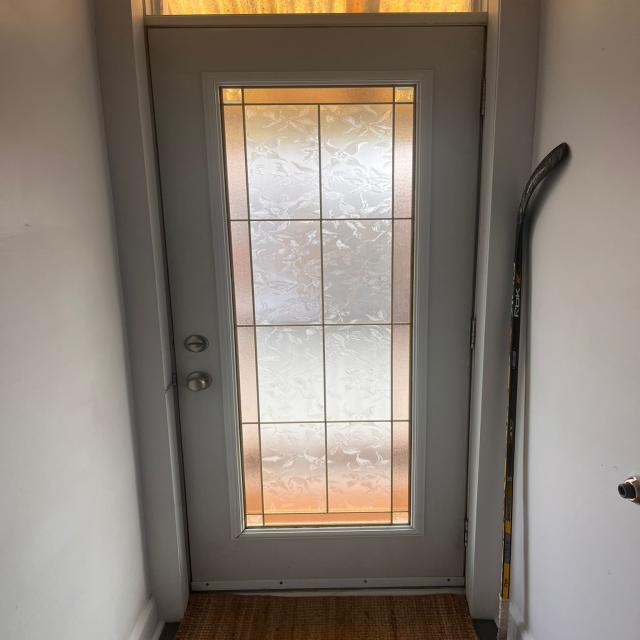door-knob: (187, 371, 212, 391)
